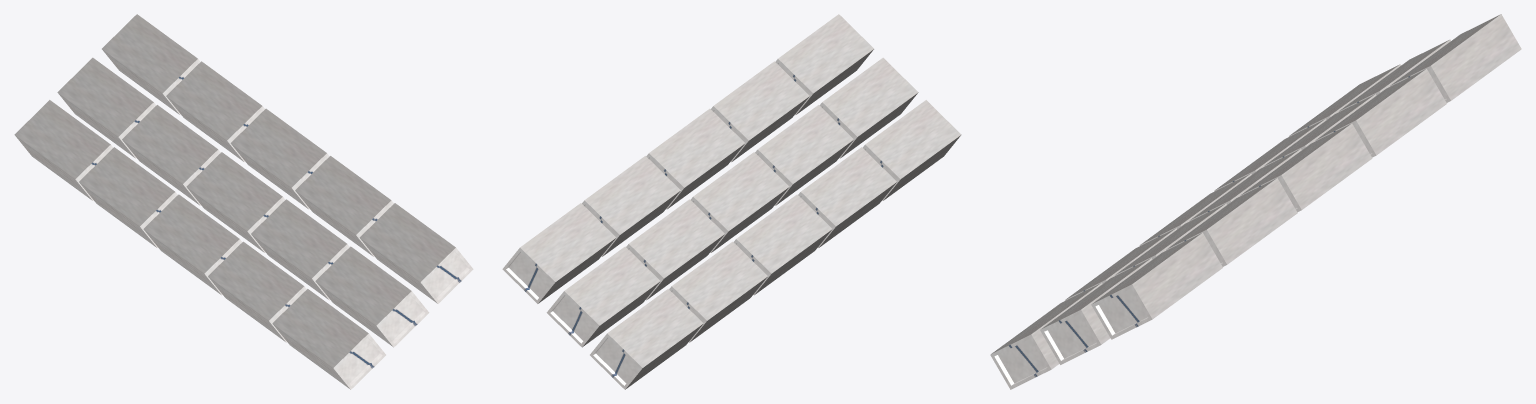
File: Orange_Tin_Candy.fbx
3 renders of one model, left to right at view 1: azimuth 30°, elevation 25°; view 2: azimuth 150°, elevation 25°; view 3: azimuth 330°, elevation 25°, orthographic. The views are drawn at different scales.
Visible parts, largest first — view 1: Orange_Tin_Candy; view 2: Orange_Tin_Candy; view 3: Orange_Tin_Candy.
Boxes of the visible parts, bbox=[...] form: Orange_Tin_Candy: bbox=[14, 14, 473, 389]; Orange_Tin_Candy: bbox=[502, 14, 961, 389]; Orange_Tin_Candy: bbox=[990, 14, 1521, 389].
Bounding box in the file's own units: 16.18 × 12.88 × 63.69.
